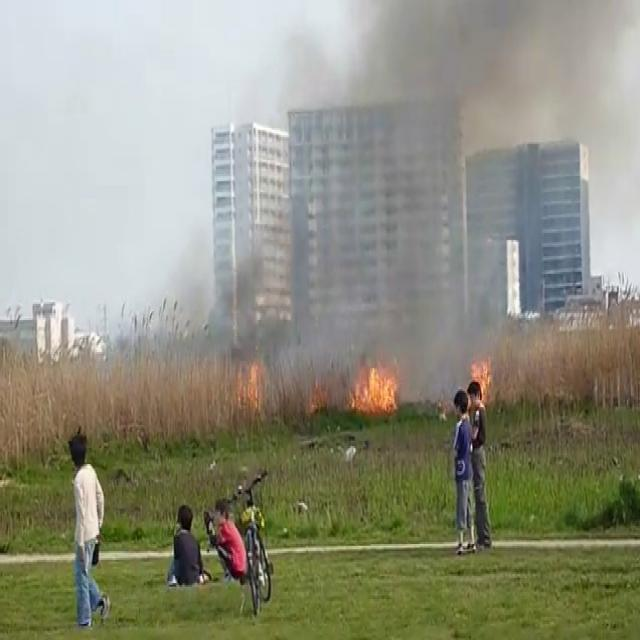Fire: (348, 349, 404, 424), (231, 338, 270, 418)
Smoke: (291, 0, 640, 384)
